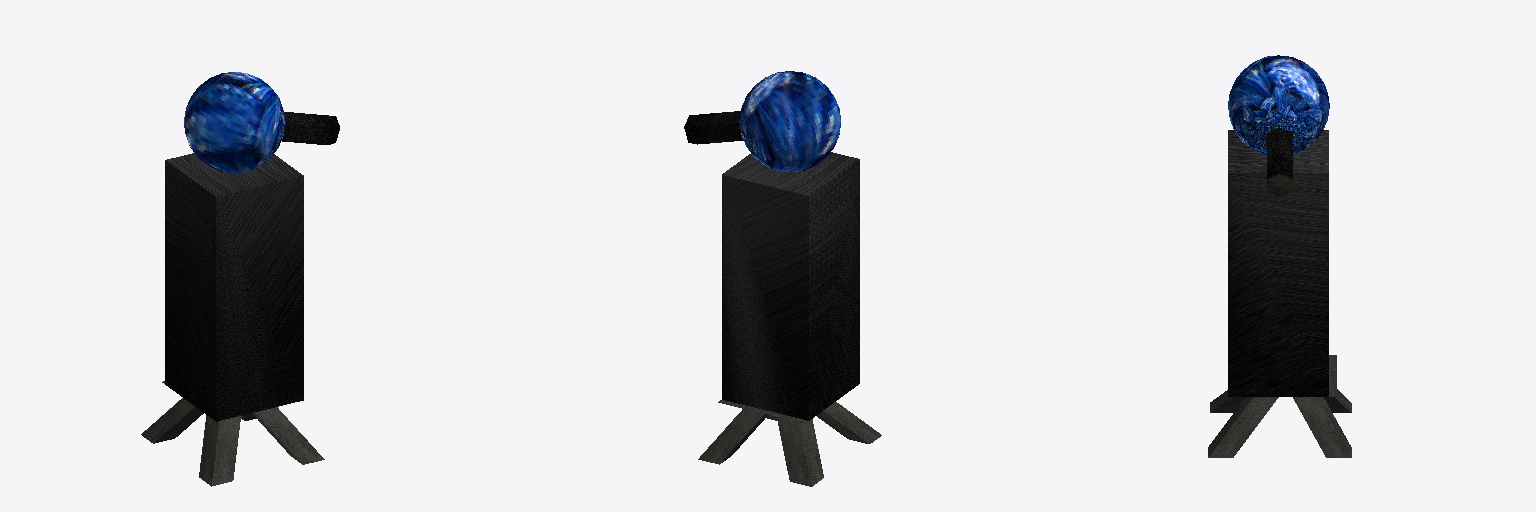
3 views of the same model, side by side, from view 1: azimuth 30°, elevation 25°; view 2: azimuth 150°, elevation 25°; view 3: azimuth 270°, elevation 25° (orthographic).
Bounding box in the file's own units: 1.63 × 3.64 × 1.28.
Materials: 3 (3 with a texture image).